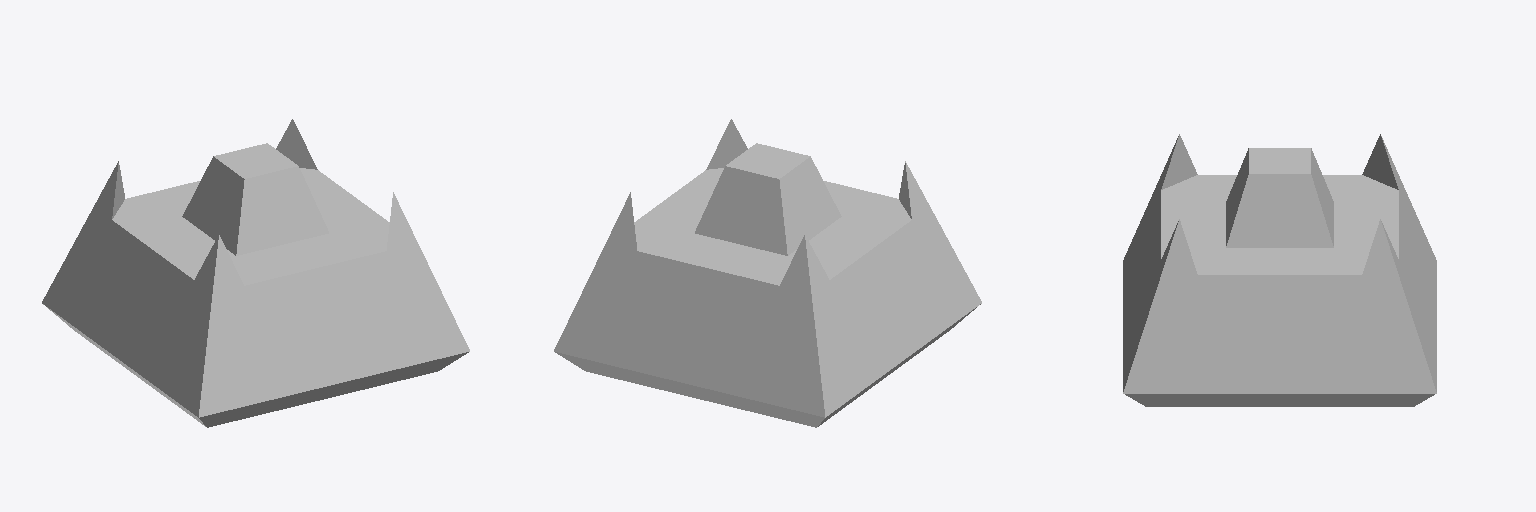
File: easy_ground_enemy.obj
3 renders of one model, left to right at view 1: azimuth 30°, elevation 25°; view 2: azimuth 150°, elevation 25°; view 3: azimuth 270°, elevation 25°, orthographic.
Parts seen in each view (by area): view 1: Mesh1 Model; view 2: Mesh1 Model; view 3: Mesh1 Model.
Boxes of the visible parts, <box> form: Mesh1 Model: <box>42,119,469,427</box>; Mesh1 Model: <box>554,119,981,427</box>; Mesh1 Model: <box>1123,134,1436,406</box>.
Size of the model in its own units: 6 by 4 by 6.